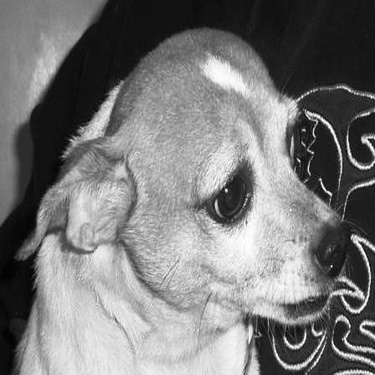dog: (1, 23, 351, 373)
